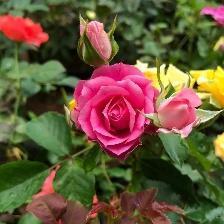rose: (71, 64, 161, 164)
